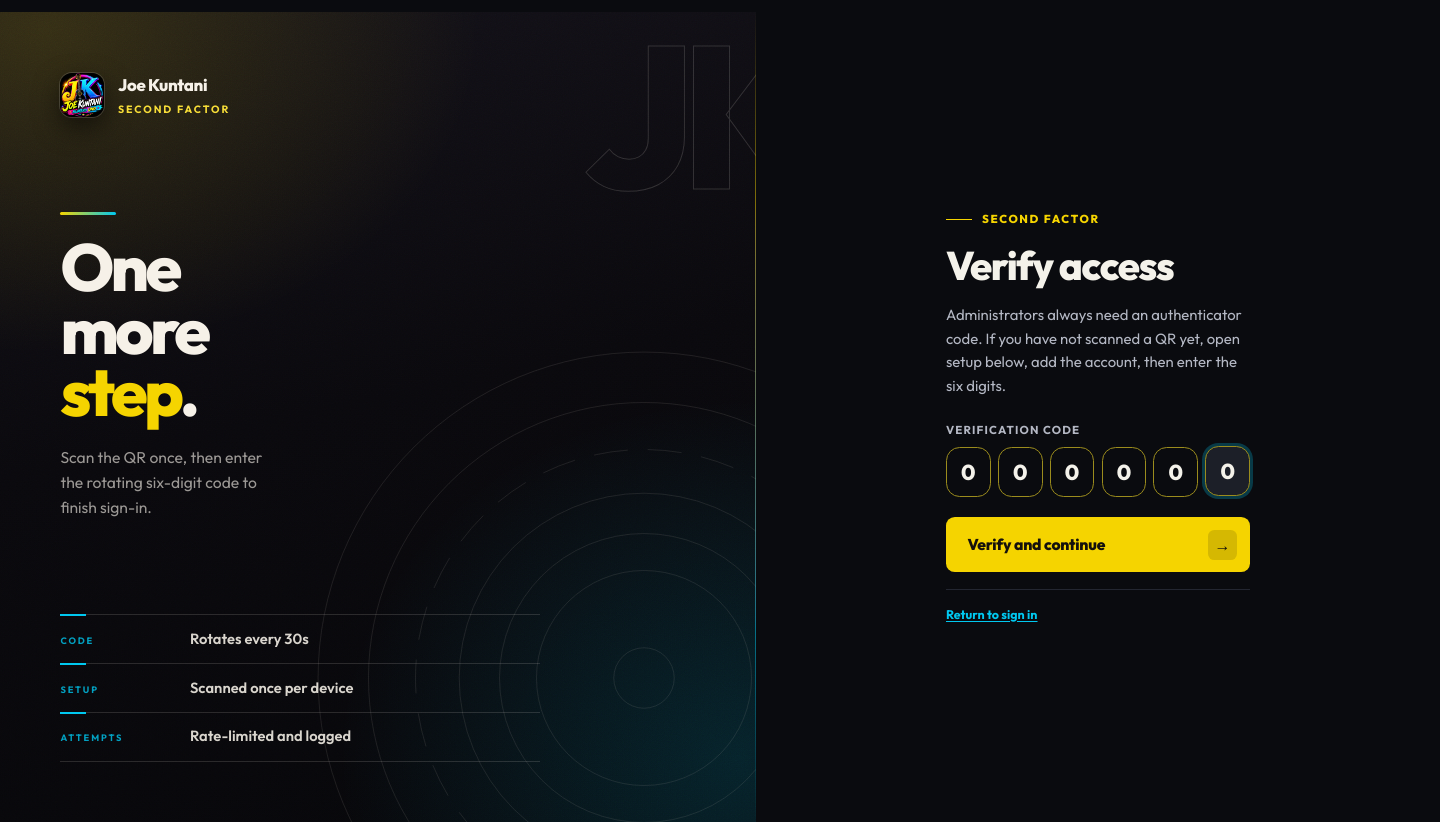
Test case: MFAForm › does not expose provider details on rejection
Step 1. Click the button "Verify and continue →" → (1098, 545), box [946,517,1250,572]
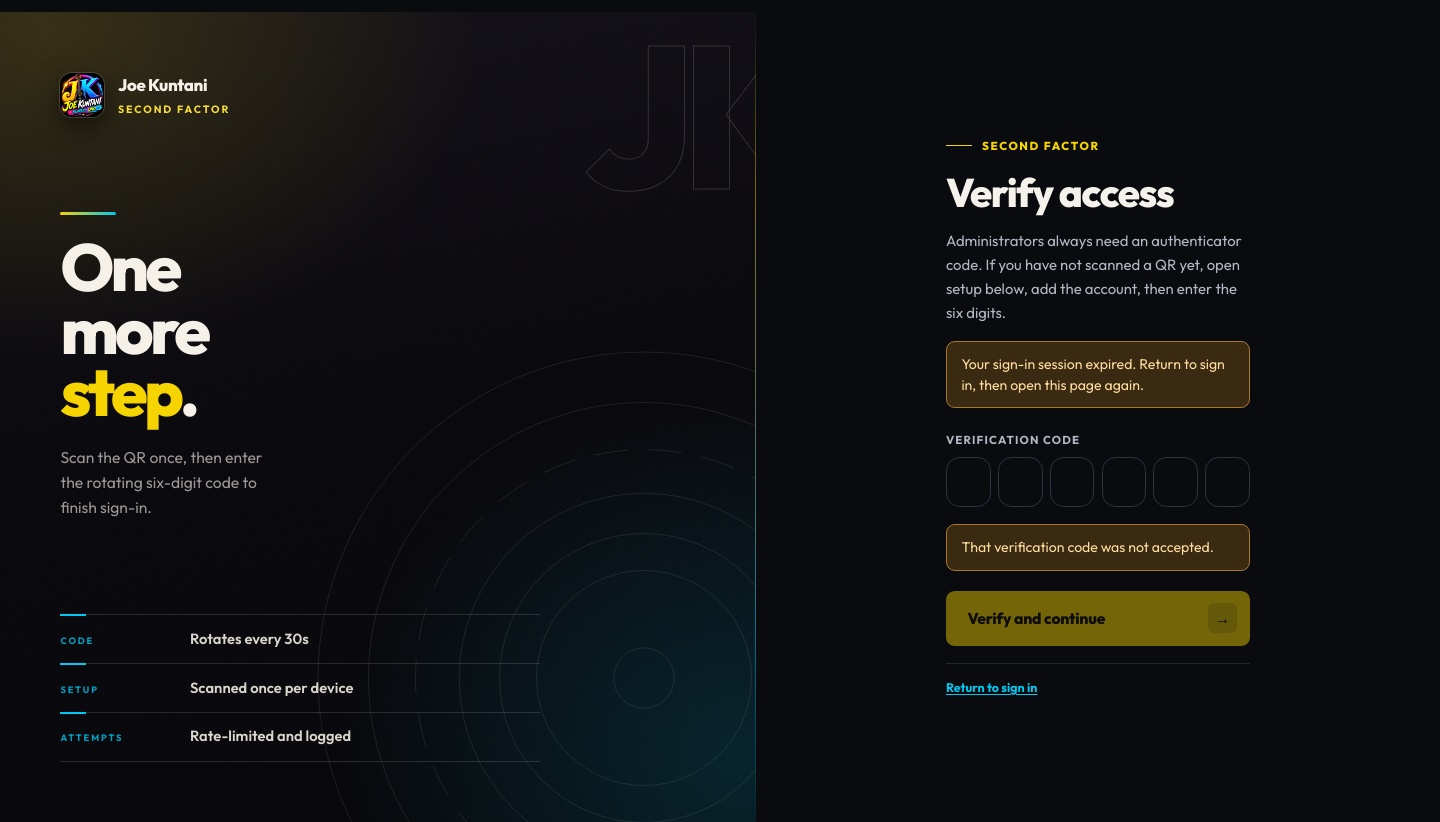
Check: the text "That verification code was not accepted." is shown, box [946,524,1250,571]
